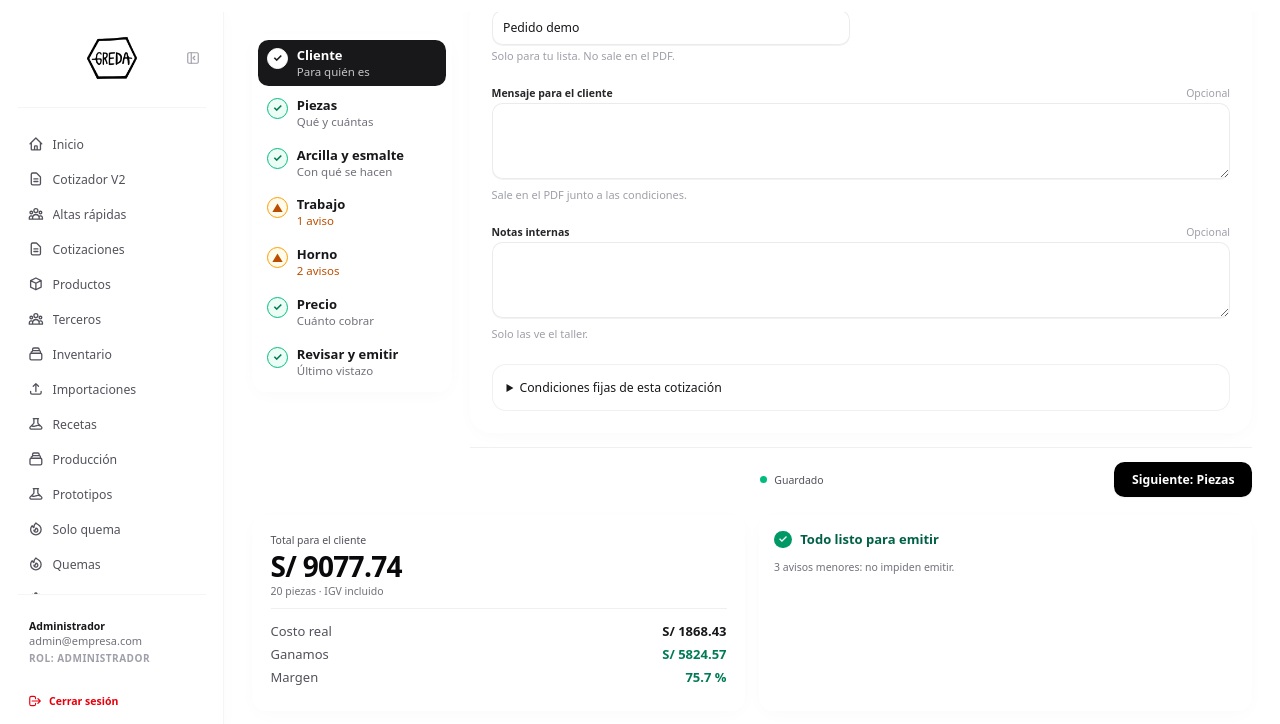
Test case: shell del Cotizador V2 rediseñado: pasos y navegación › «Siguiente» y «anterior» mueven el paso y el foco va a su título
(page scrolled)
Click the button "Siguiente: Piezas". click: (1183,480)
box: [1114,462,1252,497]
(page scrolled)
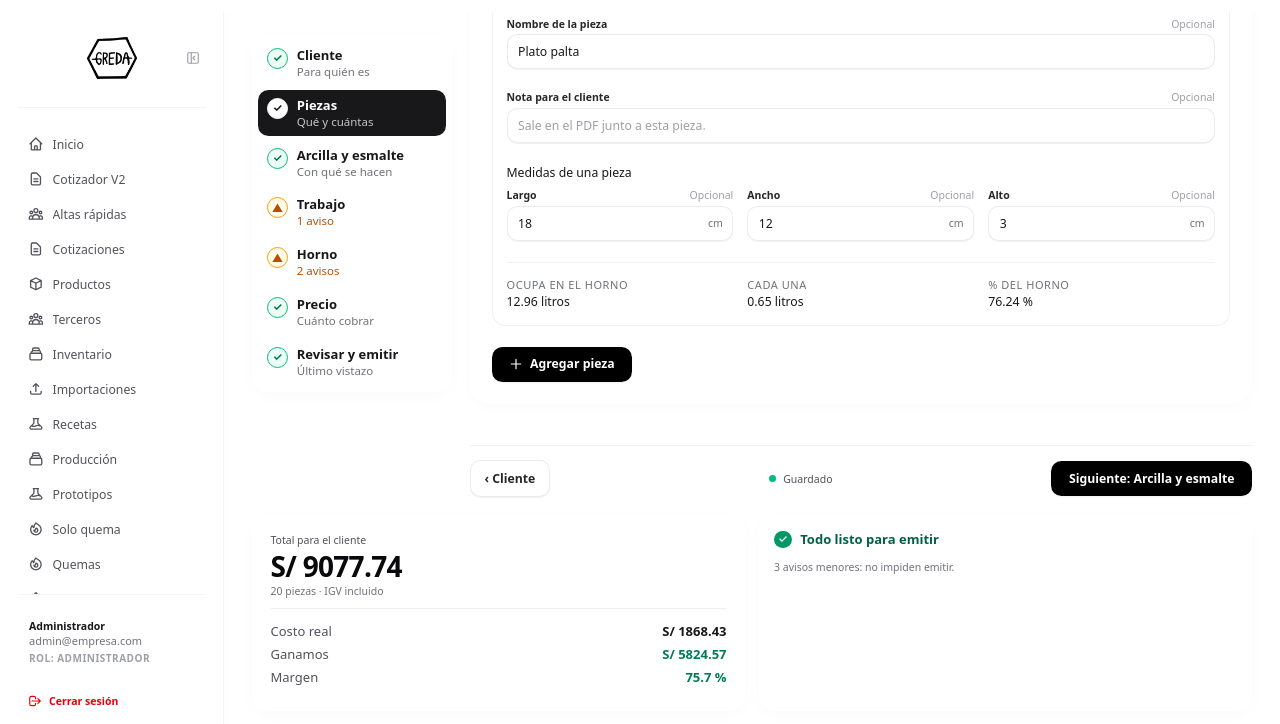
Click the button "‹ Cliente". click: (510,478)
box: [470,460,550,497]
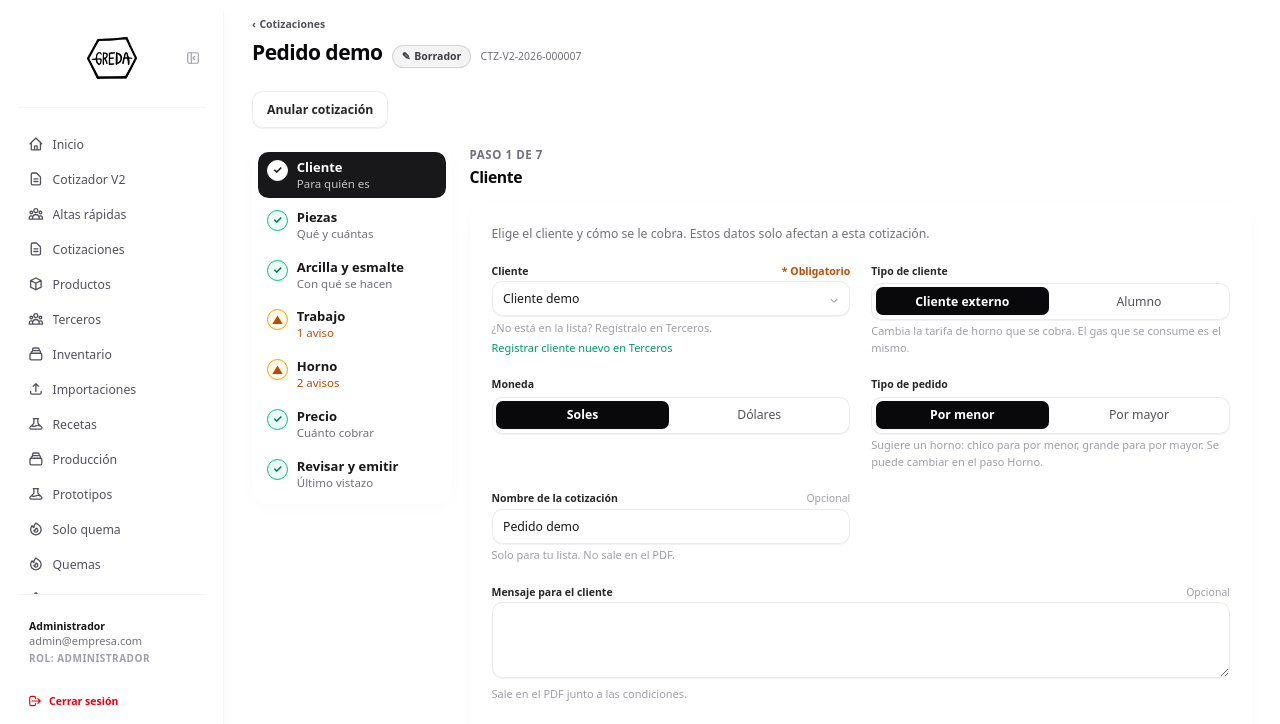
Check: the heading "Cliente" is shown, box [470,166,522,188]
